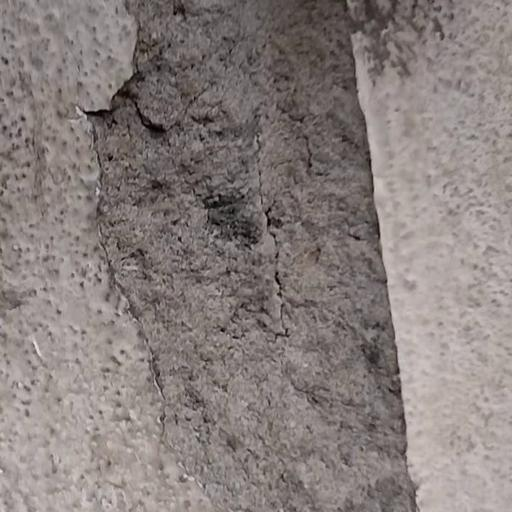spalling: (84, 0, 444, 512)
